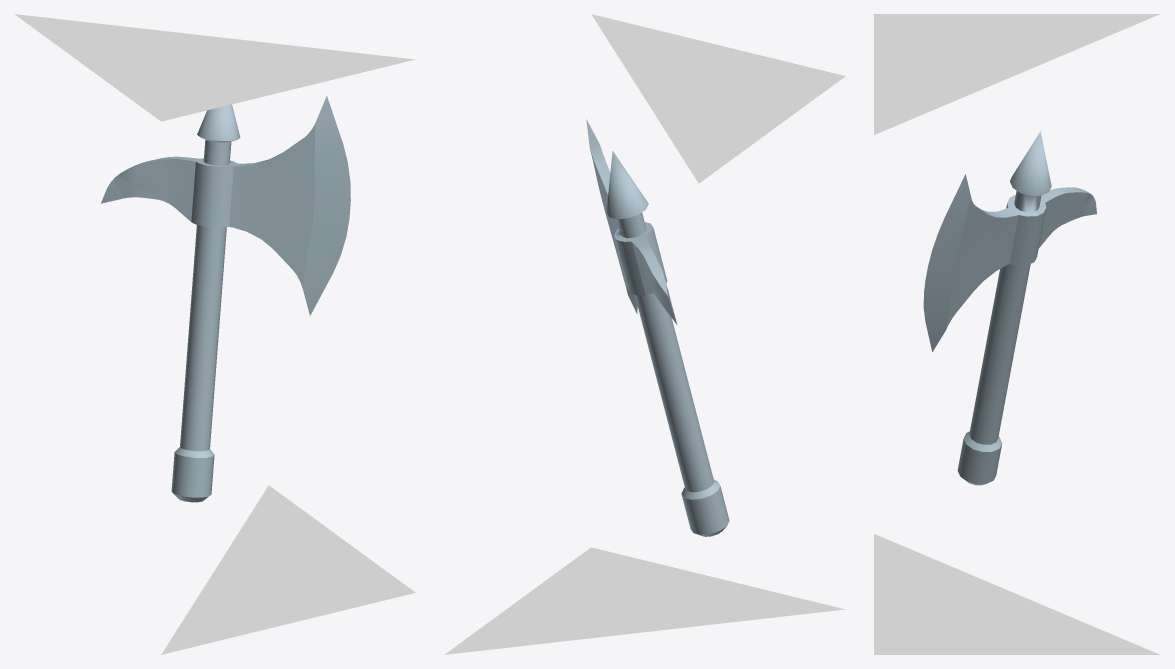
Rendered from AXE.fbx.
3 renders of one model, left to right at view 1: azimuth 30°, elevation 25°; view 2: azimuth 150°, elevation 25°; view 3: azimuth 270°, elevation 25°, orthographic. The views are drawn at different scales.
Parts seen in each view (by area): view 1: AXE; view 2: AXE; view 3: AXE.
Part boxes in pixels (bbox=[...]): AXE: bbox=[14, 14, 415, 654]; AXE: bbox=[444, 14, 845, 654]; AXE: bbox=[874, 14, 1159, 654].
Bounding box in the file's own units: 150 × 300 × 150.
